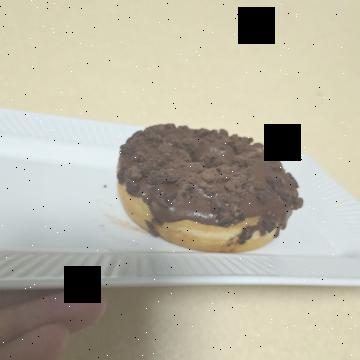doughnut: (100, 56, 264, 270)
